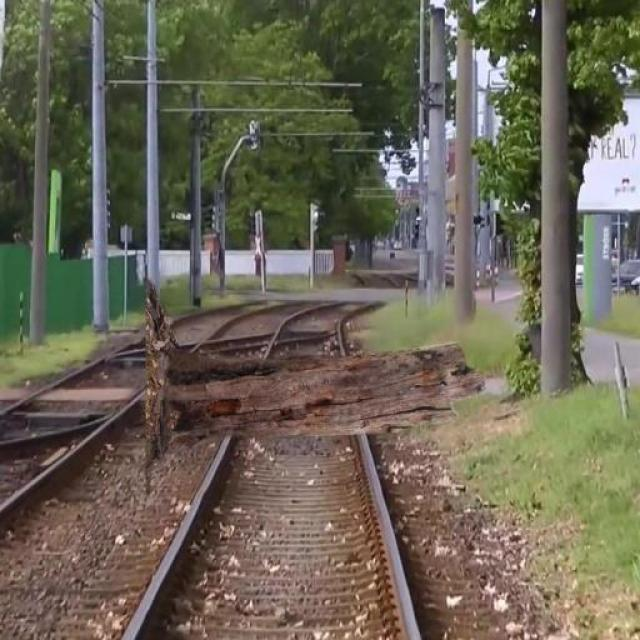Branches: (142, 323, 484, 444)
